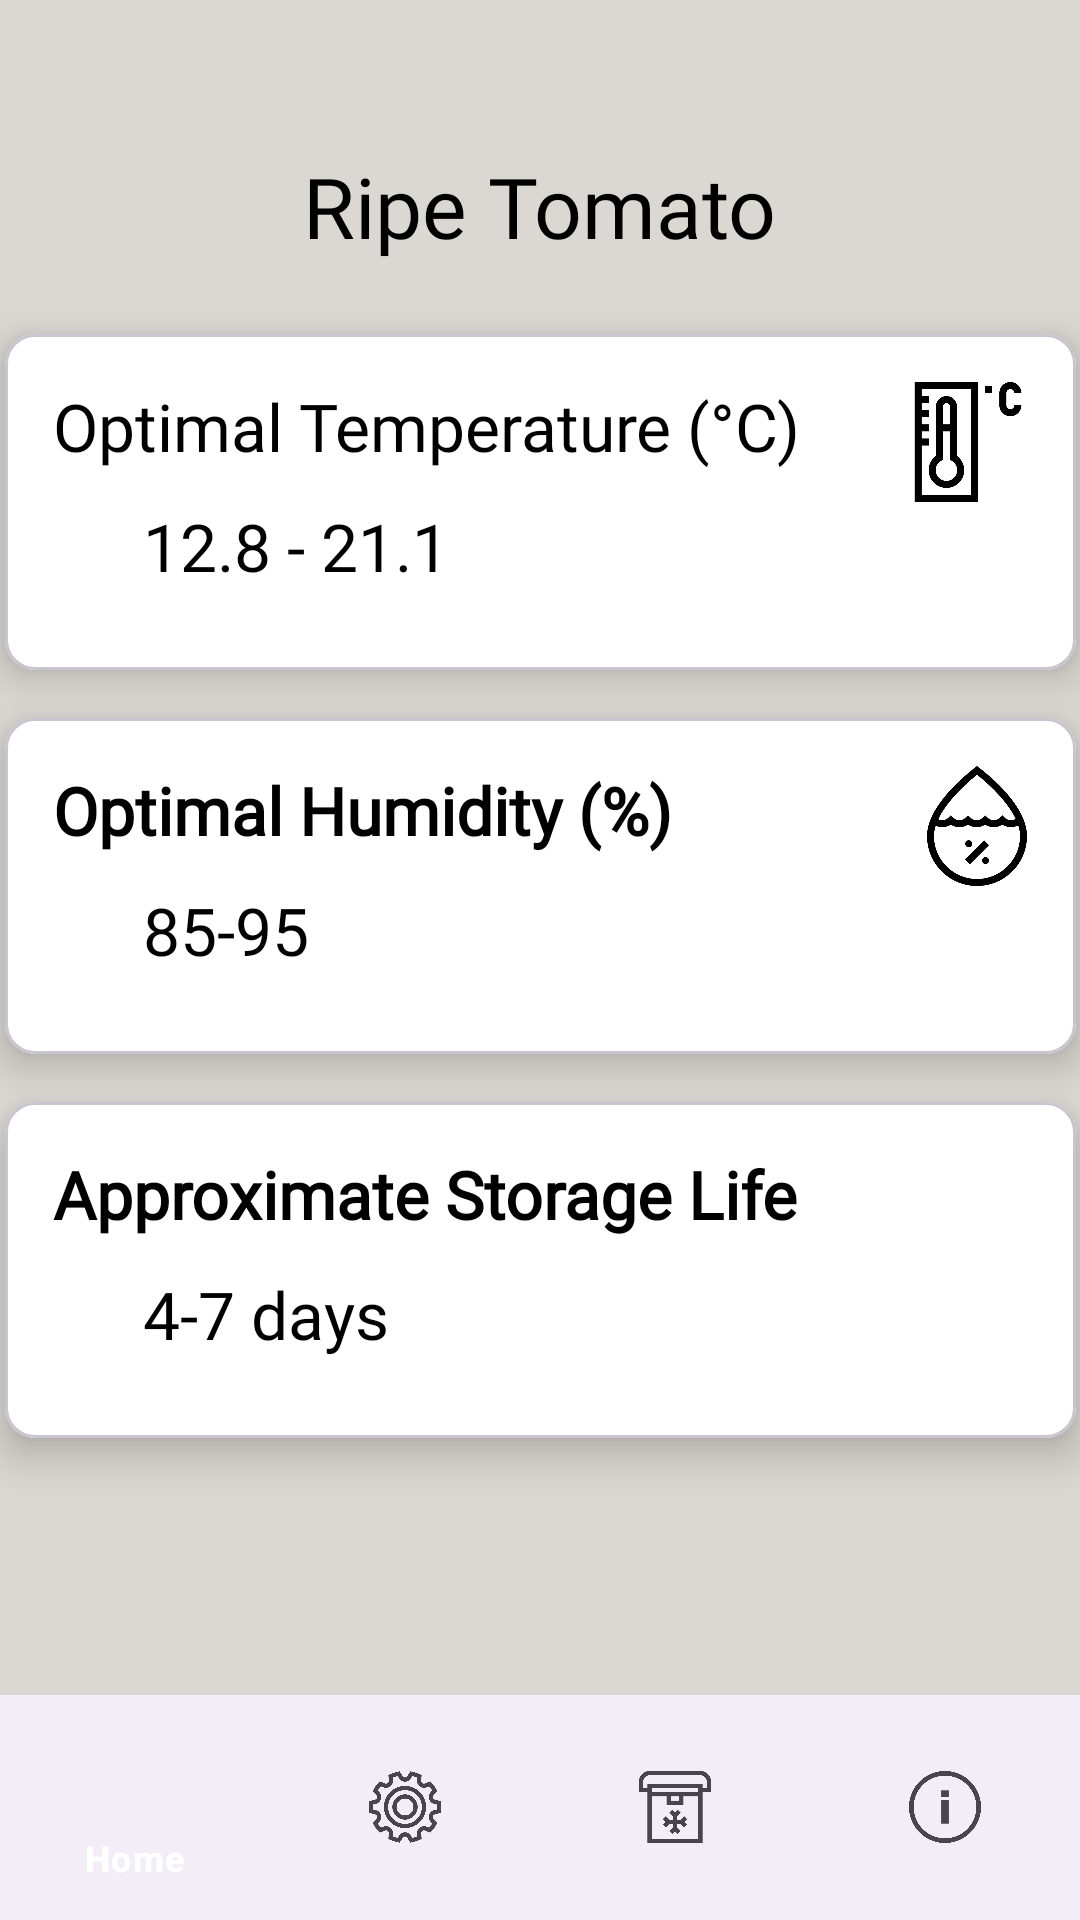

Icons on this 1080w x 1920h Android screen, each with the point to tap as (x=x, y=y):
centigrade: (x=968, y=442)
